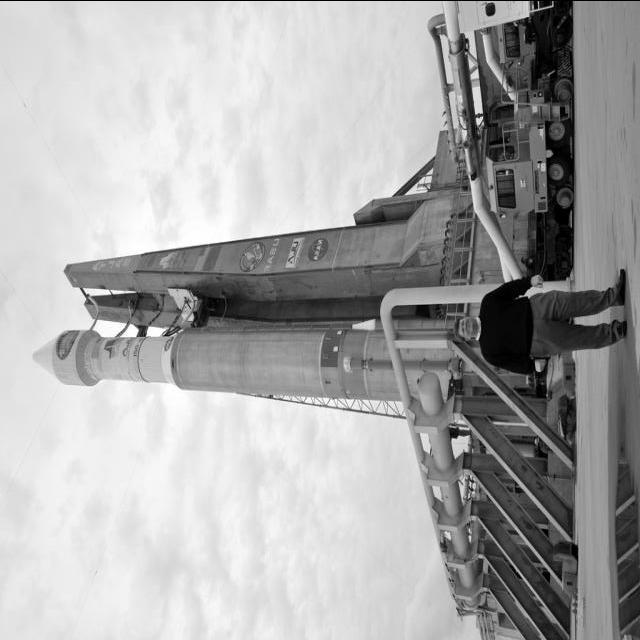missile: (32, 310, 459, 404)
